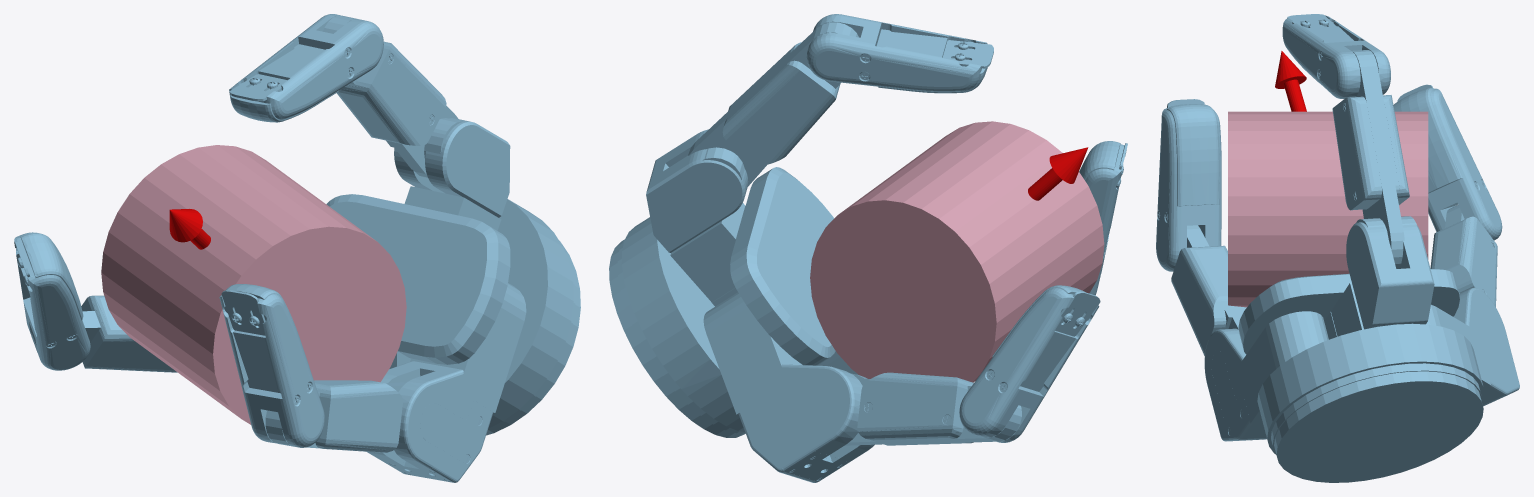
3 renders of one model, left to right at view 1: azimuth 30°, elevation 25°; view 2: azimuth 150°, elevation 25°; view 3: azimuth 270°, elevation 25°, orthographic. The views are drawn at different scales.
Visible parts, largest first — view 1: world, cylinder_medium.stl; view 2: world, cylinder_medium.stl; view 3: world, cylinder_medium.stl.
Boxes of the visible parts, <box> form: world: <box>14,14,580,482</box>; cylinder_medium.stl: <box>101,145,406,424</box>; world: <box>609,14,1127,482</box>; cylinder_medium.stl: <box>810,121,1104,382</box>; world: <box>1156,14,1519,482</box>; cylinder_medium.stl: <box>1228,111,1428,307</box>.
Size of the model in its own units: 0.2115 by 0.1732 by 0.1453.
